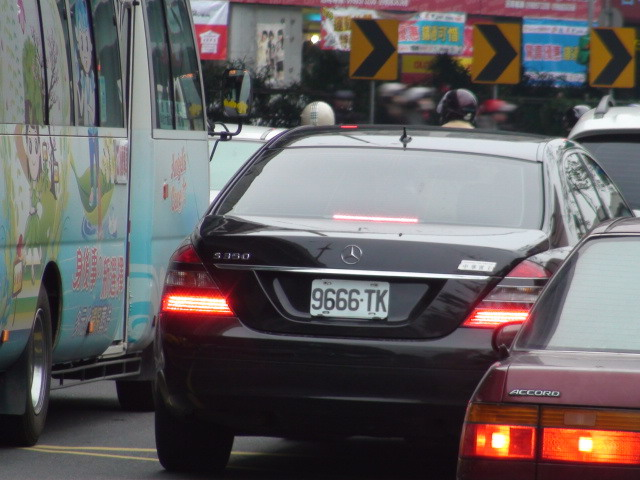plate: (308, 276, 391, 323)
